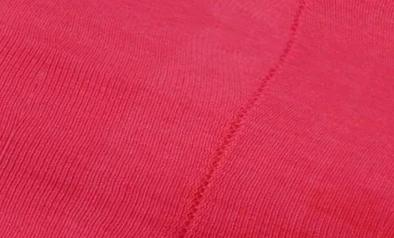slub: (176, 1, 307, 237)
